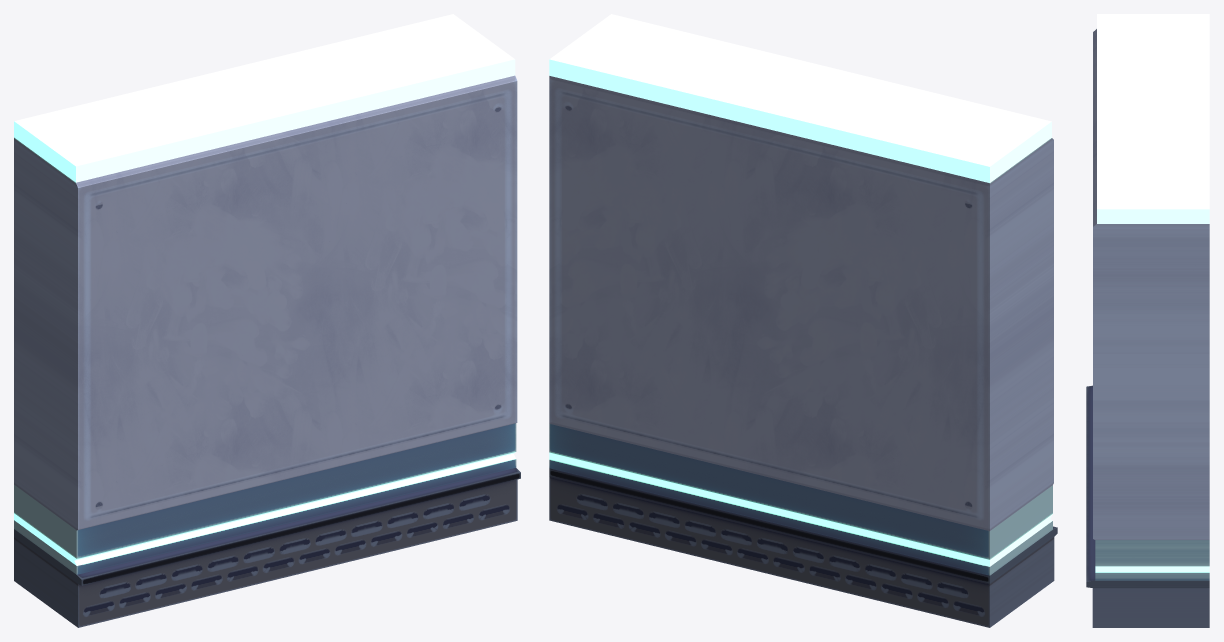
The model's file is floor1-1_low.fbx.
The picture shows the model from 3 angles, left to right: view 1: azimuth 30°, elevation 25°; view 2: azimuth 150°, elevation 25°; view 3: azimuth 270°, elevation 25°; orthographic projection. The views are drawn at different scales.
Parts seen in each view (by area): view 1: floor1-1_low; view 2: floor1-1_low; view 3: floor1-1_low.
Part boxes in pixels (box(x1,y1,x2,y2)): floor1-1_low: box(14, 14, 520, 627); floor1-1_low: box(549, 14, 1057, 627); floor1-1_low: box(1086, 14, 1209, 627).
Bounding box in the file's own units: 150 × 150 × 40.
